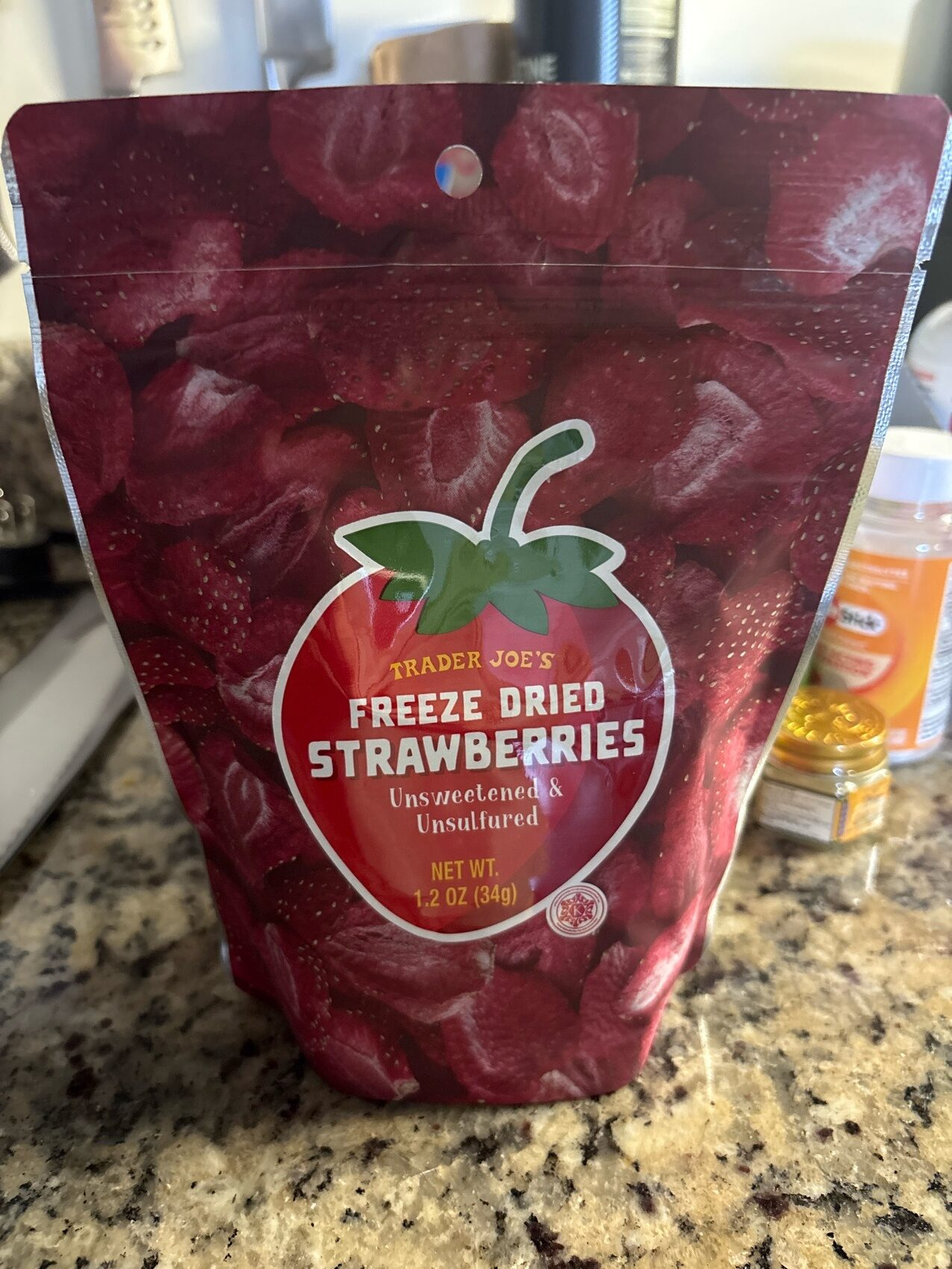Freeze Dried Strawberries unsweetened & unsulfured: (48, 63, 904, 1206)
